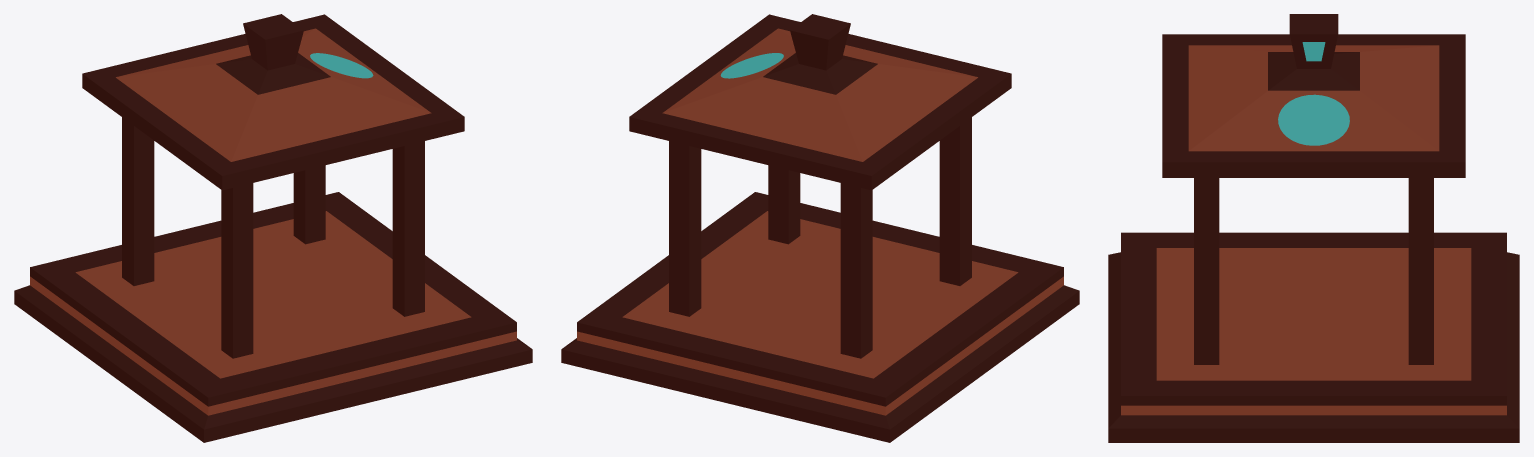
File: Building.glb
The picture shows the model from 3 angles, left to right: view 1: azimuth 30°, elevation 25°; view 2: azimuth 150°, elevation 25°; view 3: azimuth 270°, elevation 25°; orthographic projection. The views are drawn at different scales.
Visible parts, largest first — view 1: Building; view 2: Building; view 3: Building.
Part boxes in pixels (x1,y1,x2,y2): Building: (14, 14, 532, 442); Building: (561, 14, 1079, 442); Building: (1108, 14, 1519, 442).
Size of the model in its own units: 9.58 by 8.53 by 9.58.
